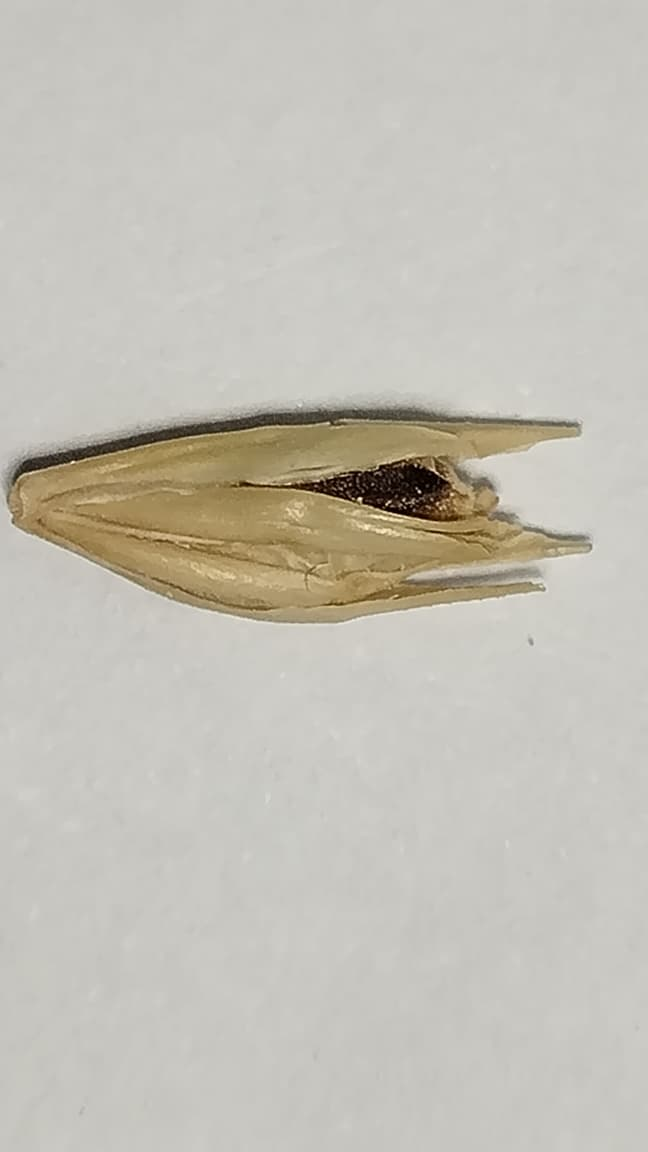damage: (9, 420, 583, 629)
staindamage: (281, 454, 497, 534)
